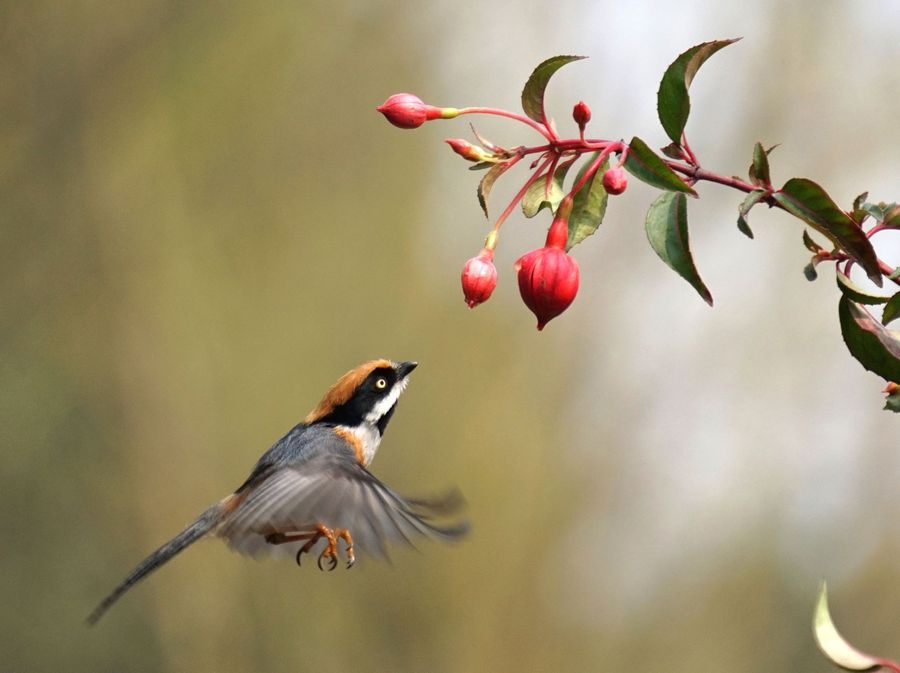bird: (81, 353, 467, 630)
